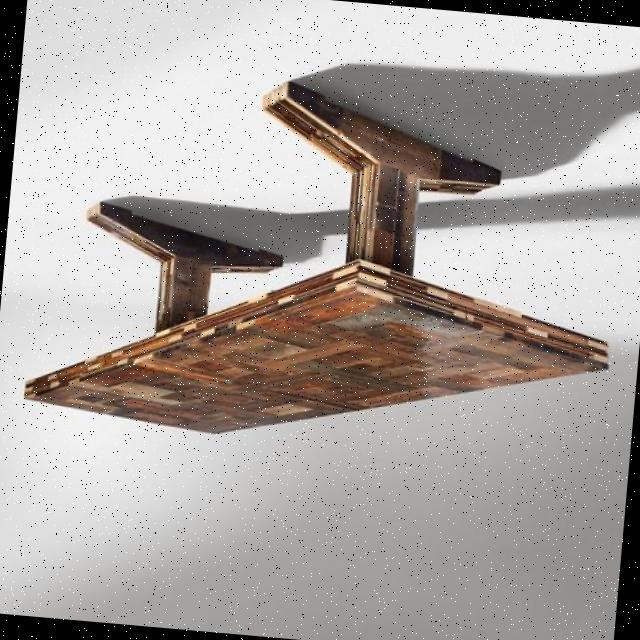Table: (0, 28, 640, 548)
